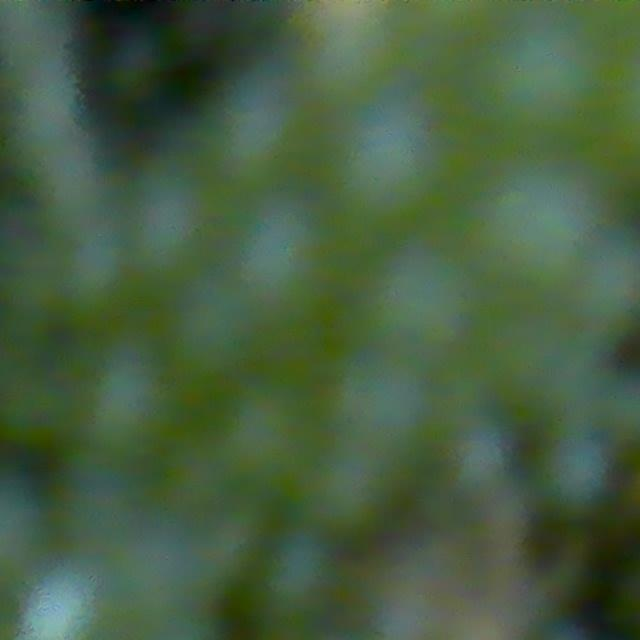SeaGrape: (329, 90, 457, 225), (476, 14, 605, 140), (486, 172, 598, 301), (227, 194, 340, 321), (374, 248, 486, 366), (80, 356, 179, 459), (369, 366, 469, 467), (163, 283, 262, 384), (125, 175, 219, 281), (216, 78, 298, 196), (300, 447, 395, 538), (222, 390, 312, 478), (259, 530, 342, 622), (54, 231, 133, 323), (310, 8, 398, 84), (12, 573, 102, 640), (539, 432, 612, 509)
